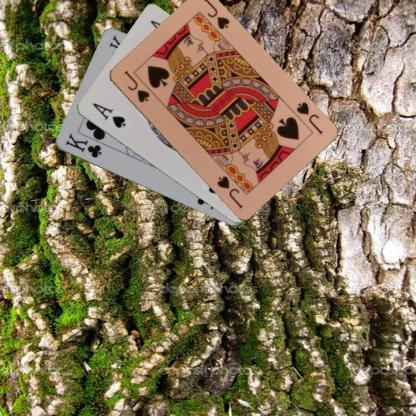As: (90, 100, 128, 130)
Js: (294, 98, 324, 136), (121, 68, 151, 104)
Kc: (62, 130, 103, 160)
